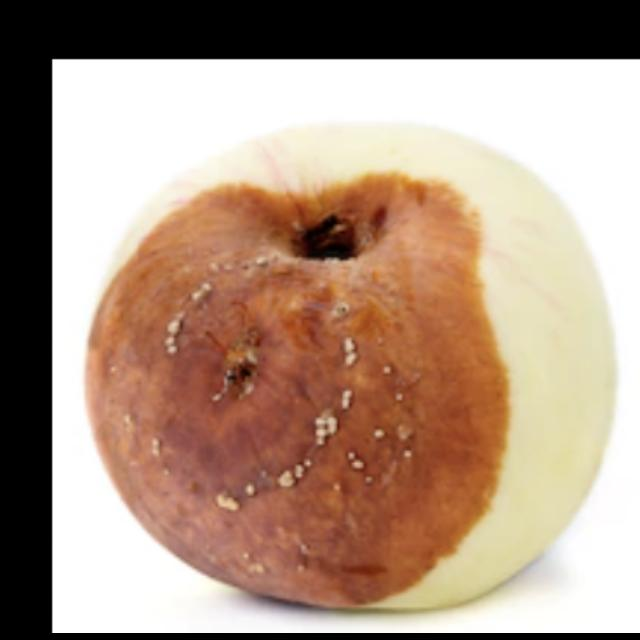Apel Tidak Segar: (78, 115, 622, 633)
